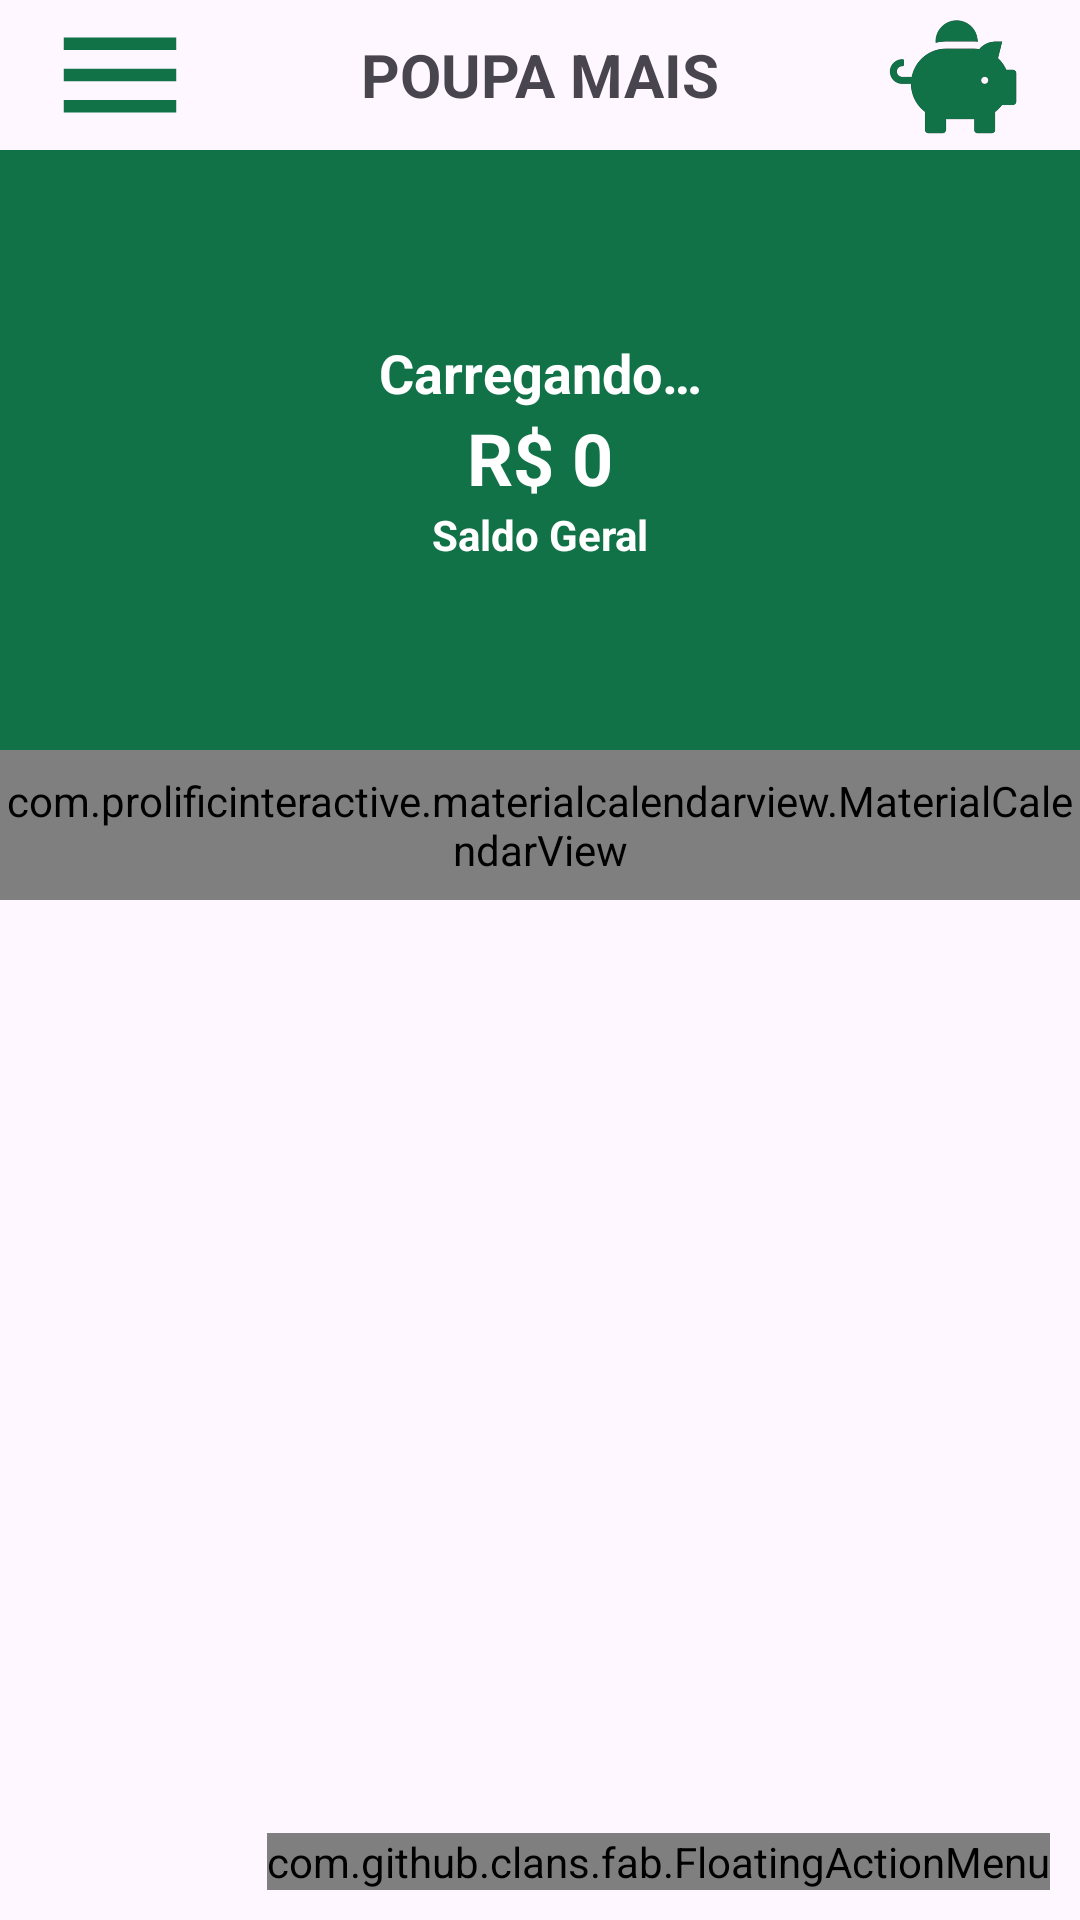

Where icons sit on this 1080 × 1920 app screen, as box=[x1, y1, x2, y2]:
Ícone do Menu: box=[63, 37, 177, 113]
